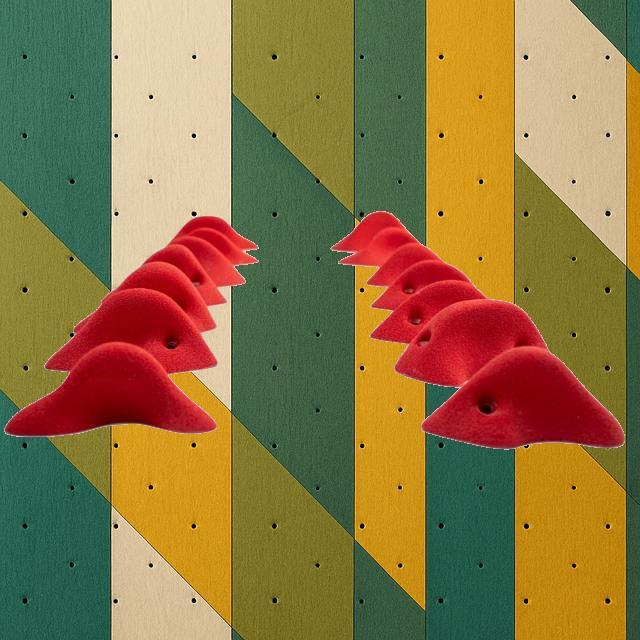Pinch: (419, 344, 625, 450), (4, 341, 216, 437), (44, 287, 218, 375), (392, 297, 548, 387), (100, 260, 216, 334), (369, 278, 487, 344), (141, 245, 227, 307), (370, 260, 472, 310), (168, 236, 246, 286), (366, 243, 442, 287), (338, 226, 420, 266), (173, 216, 257, 254), (330, 211, 404, 253), (187, 228, 260, 266)
